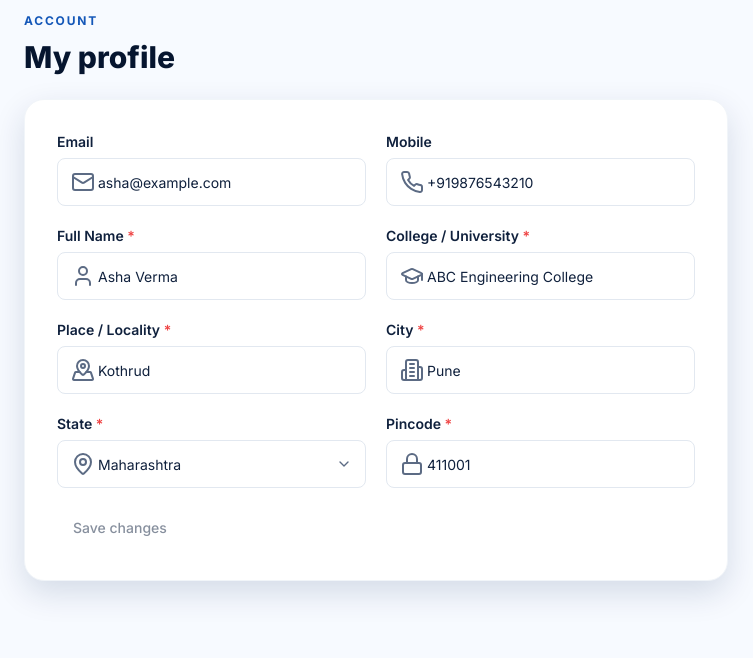
Test: Profile (US7) › saves allowlisted fields and shows confirmation
Expected: the field labelled "Email" is disabled, [57, 158, 366, 206]
Replace the text in the field labelled "City *" with "Mumbai": (540, 370) [386, 346, 695, 394]
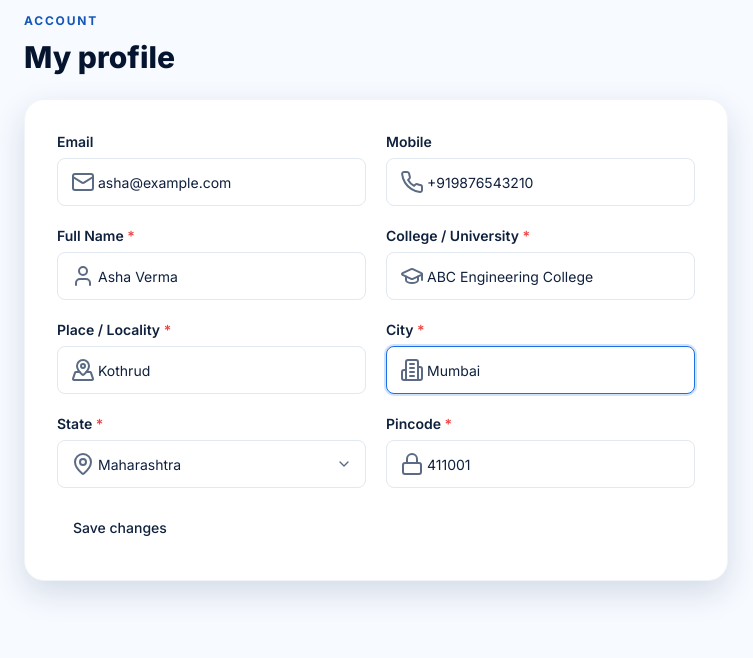
Click the button "Save changes": click(120, 528) [57, 508, 183, 548]
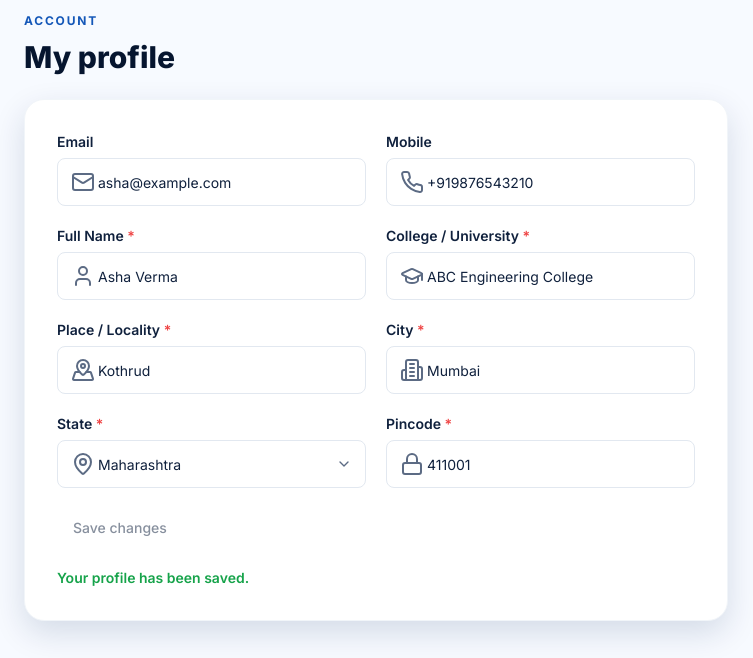
Expected: the text "Your profile has been saved." is shown, [57, 569, 249, 586]
